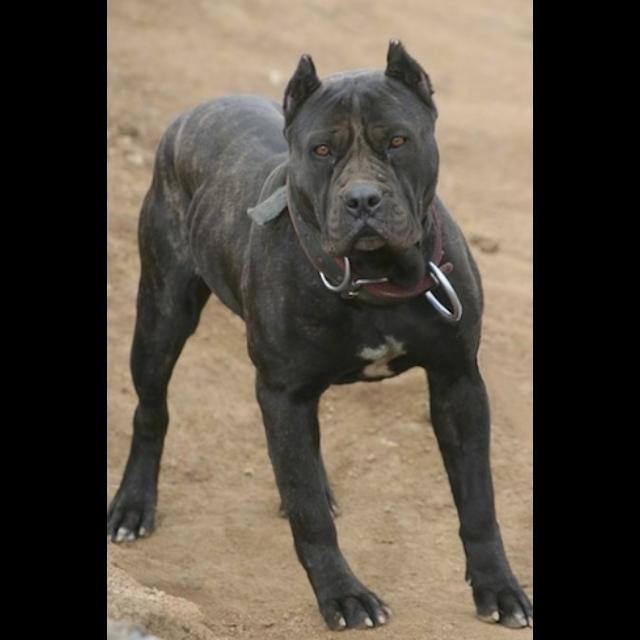mastino_napoletano: (108, 38, 532, 633)
